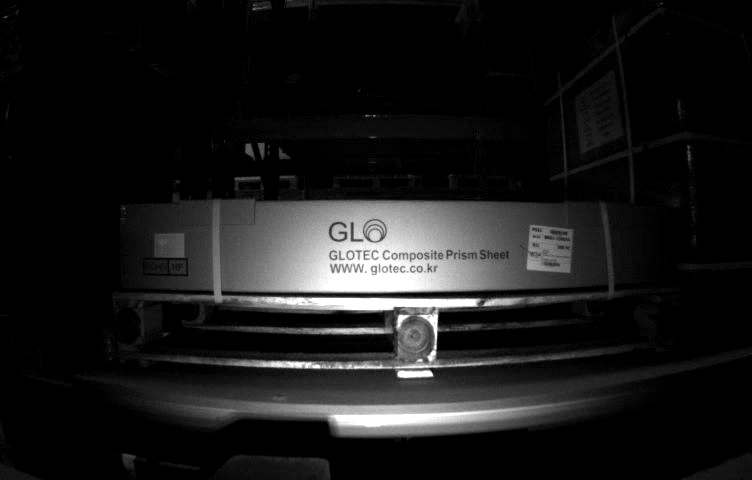True Barcode: (524, 223, 571, 274)
